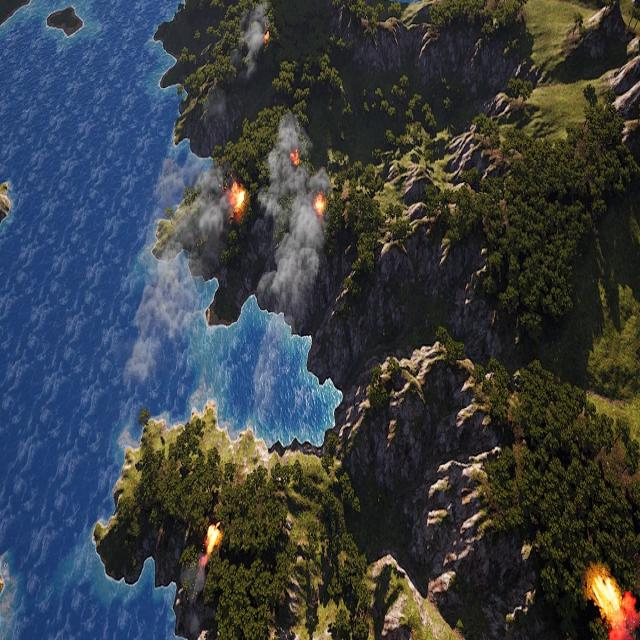fire: (589, 573, 640, 639), (231, 184, 248, 216), (207, 527, 220, 556), (314, 194, 326, 216), (290, 148, 300, 166), (264, 30, 272, 44)
smoke: (123, 164, 231, 397), (253, 110, 329, 334), (231, 1, 267, 77), (181, 554, 210, 638)
